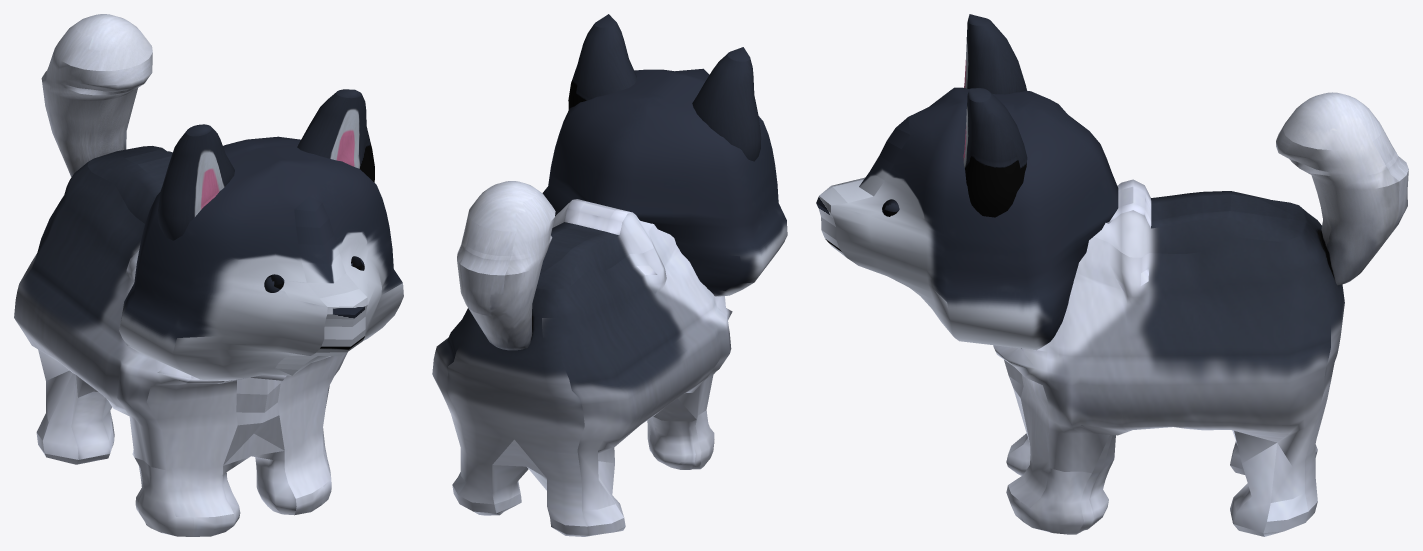
File: huskyModel.fbx
The picture shows the model from 3 angles, left to right: view 1: azimuth 30°, elevation 25°; view 2: azimuth 150°, elevation 25°; view 3: azimuth 270°, elevation 25°; orthographic projection. The views are drawn at different scales.
Parts seen in each view (by area): view 1: body, head, tail, earLeft, earRight; view 2: body, head, tail, earLeft, earRight; view 3: body, head, tail, earRight, earLeft.
Part boxes in pixels (bbox=[...]): body: bbox=[14, 146, 347, 536]; head: bbox=[119, 136, 403, 381]; tail: bbox=[41, 14, 152, 176]; earLeft: bbox=[158, 124, 234, 240]; earRight: bbox=[297, 89, 374, 182]; body: bbox=[432, 199, 732, 536]; head: bbox=[542, 68, 787, 296]; tail: bbox=[457, 181, 555, 350]; earLeft: bbox=[692, 47, 761, 161]; earRight: bbox=[568, 14, 637, 109]; body: bbox=[993, 179, 1344, 536]; head: bbox=[816, 87, 1118, 350]; tail: bbox=[1276, 92, 1408, 285]; earRight: bbox=[963, 88, 1027, 217]; earLeft: bbox=[964, 14, 1026, 94].
Size of the model in its own units: 4.27 by 6.93 by 8.44.
6 materials, 6 textured.
